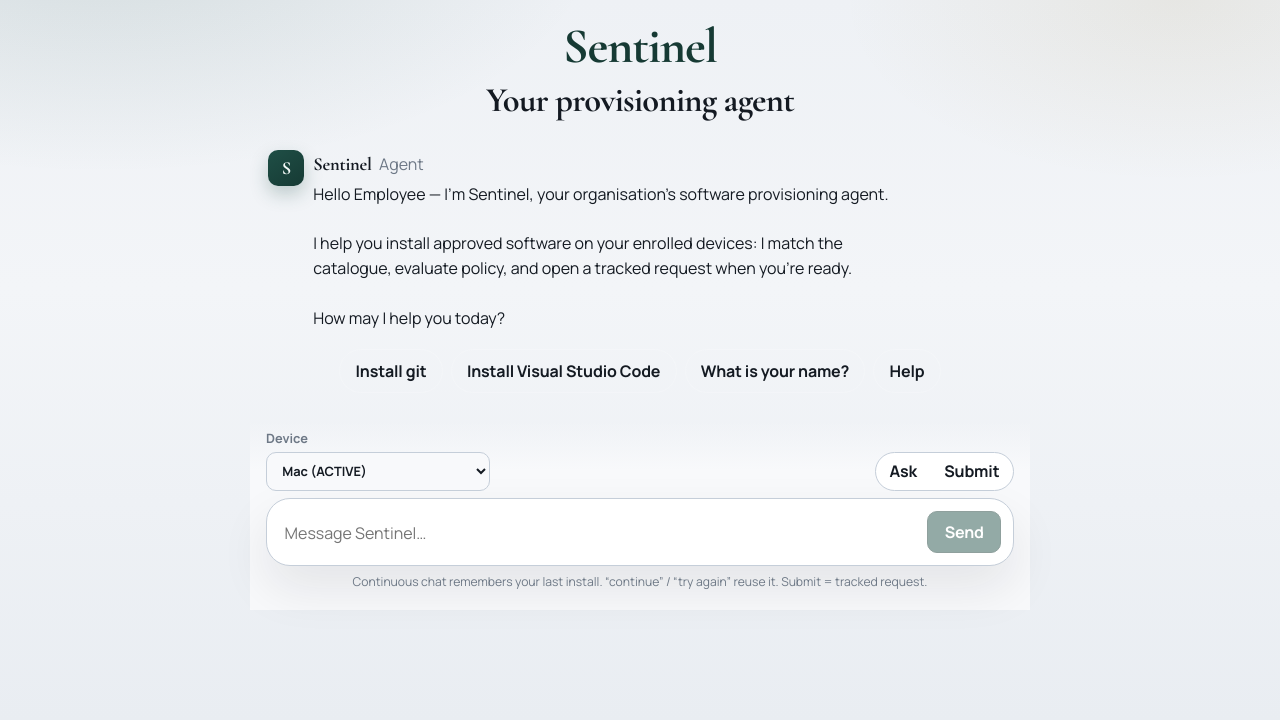
Test: AgentChat › submits an install message and shows an agent reply
Expected: the heading "Your provisioning agent" is shown, [486,79,794,121]
Type "Install git" into the text box named "Message the provisioning agent" at {"x": 599, "y": 534}, box [279,514,919,553]
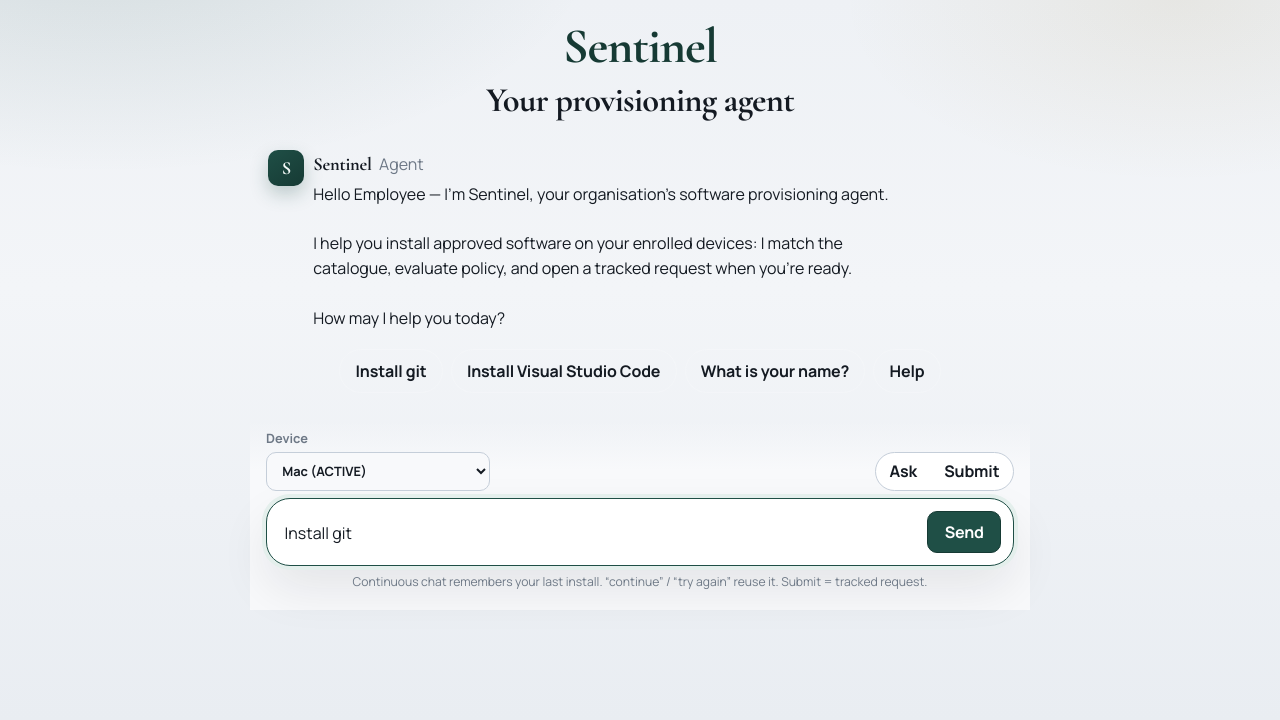
Click the button "Send" at {"x": 964, "y": 532}, box [927,510,1001,553]
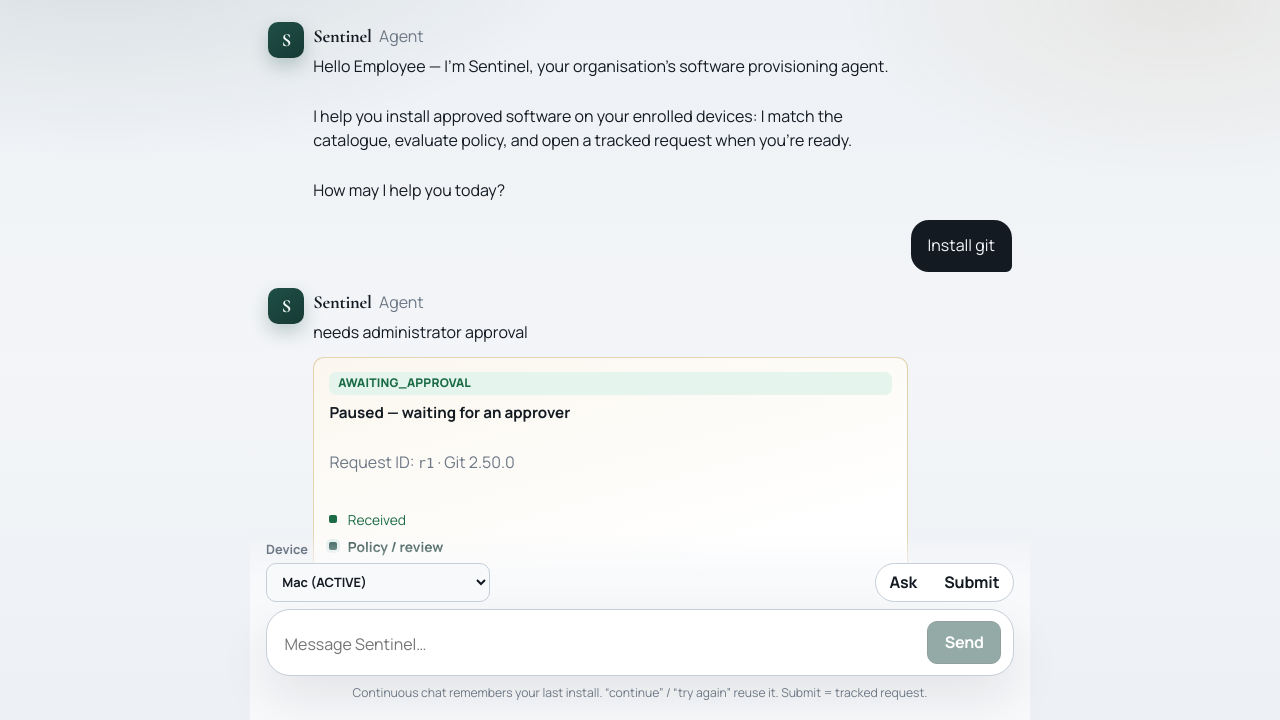
Now the text "needs administrator approval" is shown, box [313,321,528,343]
Now the text "AWAITING_APPROVAL" is shown, box [329,372,892,395]
